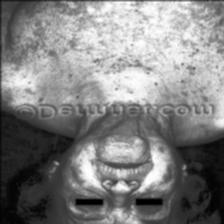Non-Cancerous Skin Condition: (36, 0, 224, 73), (0, 0, 17, 70)
